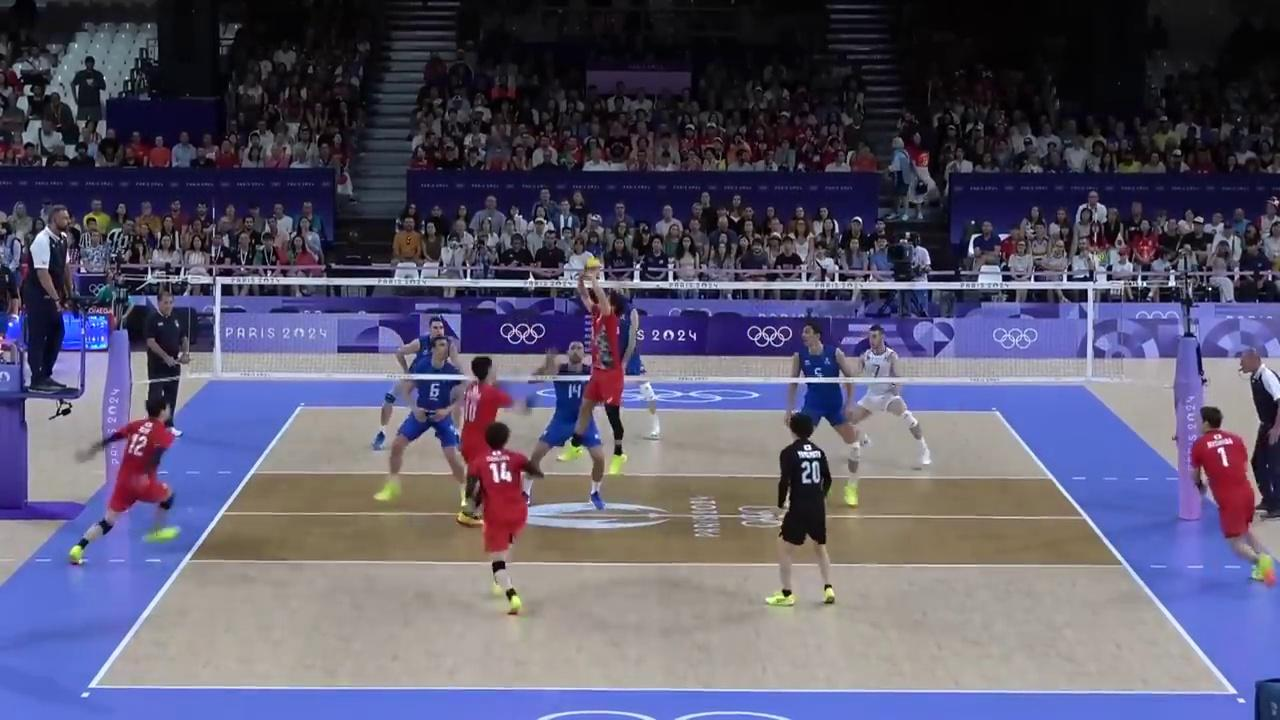ball: (585, 259, 604, 277)
